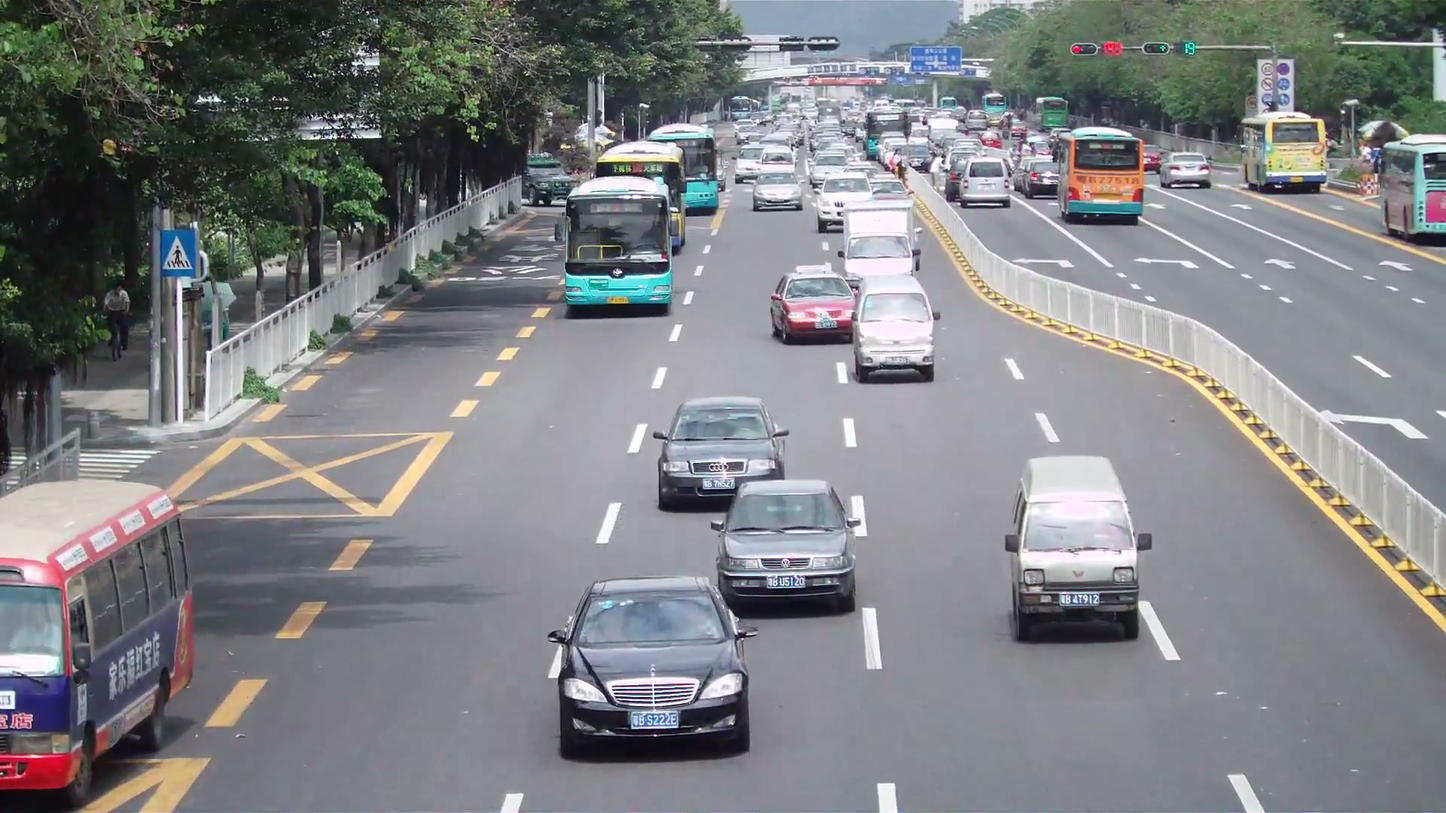bus: (1, 476, 197, 806), (562, 174, 674, 316), (597, 138, 687, 258), (1057, 126, 1145, 224), (1379, 135, 1445, 243), (649, 124, 722, 203)
car: (546, 575, 758, 759), (1004, 454, 1152, 642), (712, 478, 863, 613), (649, 395, 790, 510), (850, 275, 939, 382), (768, 268, 859, 345), (840, 199, 924, 282), (813, 173, 876, 233), (953, 156, 1012, 209), (751, 170, 805, 213), (1160, 151, 1212, 191), (1015, 156, 1060, 197)
pedestrian: (103, 280, 132, 359)
truck: (1241, 111, 1331, 191), (1379, 134, 1445, 243)
